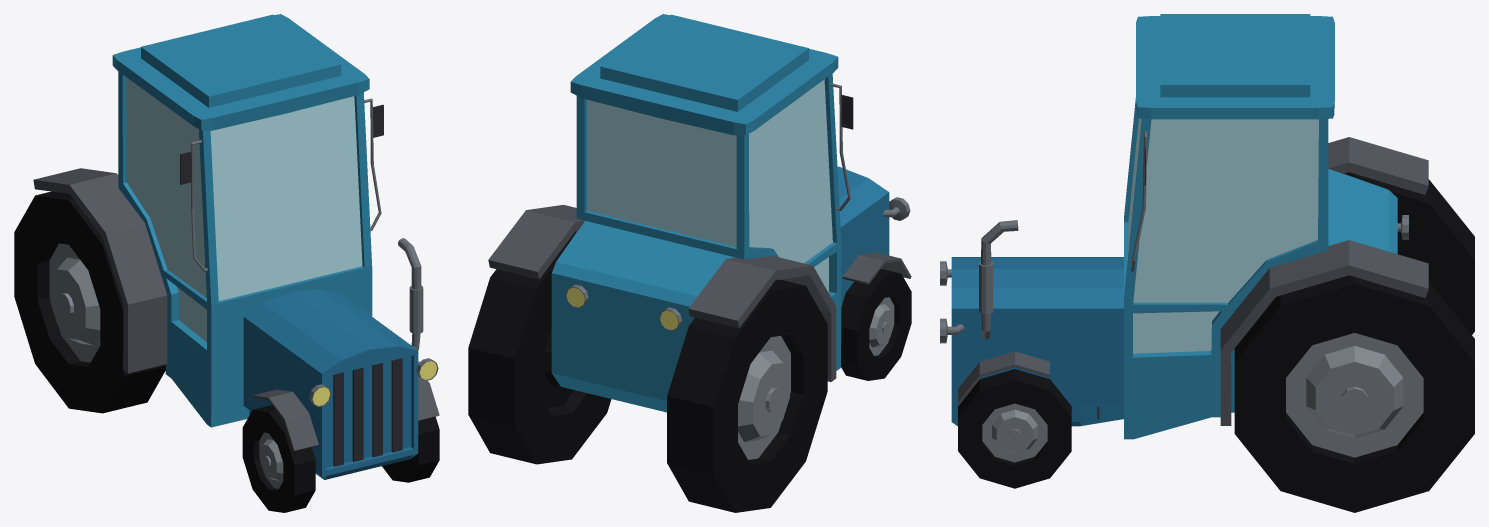
Rendered from Tractor_Blue.fbx.
3 views of the same model, side by side, from view 1: azimuth 30°, elevation 25°; view 2: azimuth 150°, elevation 25°; view 3: azimuth 270°, elevation 25° (orthographic). The views are drawn at different scales.
Visible parts, largest first — view 1: Tractor_Blue; view 2: Tractor_Blue; view 3: Tractor_Blue.
Part boxes in pixels (box(x1,y1,x2,y2)): Tractor_Blue: box(14, 14, 439, 512); Tractor_Blue: box(468, 14, 911, 512); Tractor_Blue: box(940, 14, 1474, 512).
Bounding box in the file's own units: 175 × 250 × 303.
